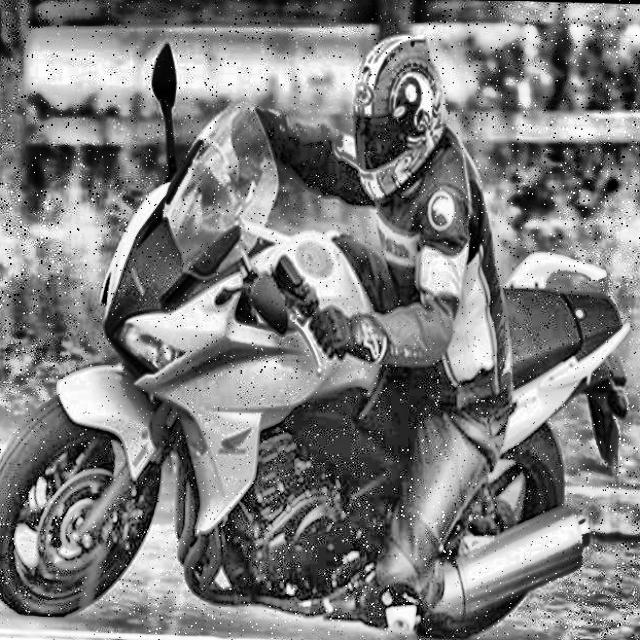Helmet: (348, 24, 450, 215)
